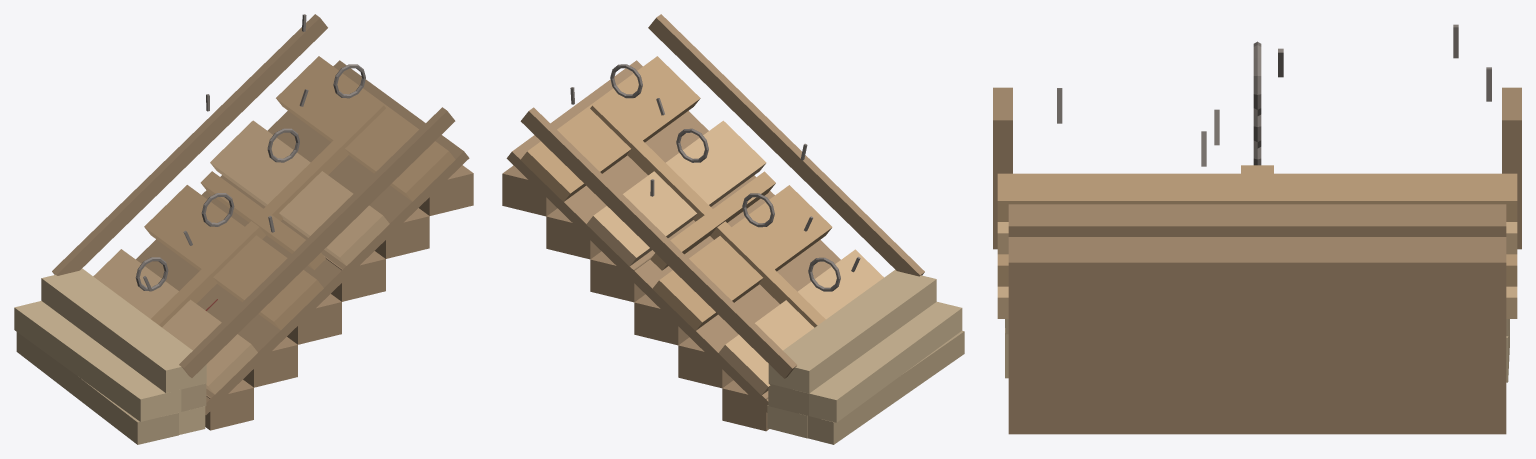
File: blockade-stair.fbx
3 views of the same model, side by side, from view 1: azimuth 30°, elevation 25°; view 2: azimuth 150°, elevation 25°; view 3: azimuth 270°, elevation 25° (orthographic). The views are drawn at different scales.
Visible parts, largest first — view 1: BlockadeStair; view 2: BlockadeStair; view 3: BlockadeStair.
Boxes of the visible parts, x1=… form: BlockadeStair: x1=14, y1=14, x2=473, y2=444; BlockadeStair: x1=502, y1=14, x2=964, y2=444; BlockadeStair: x1=993, y1=24, x2=1521, y2=434.
Size of the model in its own units: 7.02 by 5.66 by 4.78.
